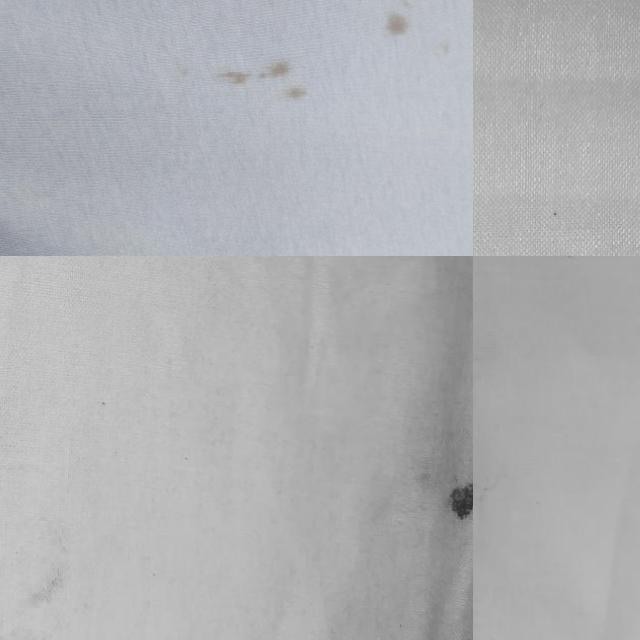Thread_other: (0, 417, 159, 640), (182, 25, 334, 152), (357, 0, 473, 121), (421, 385, 473, 526)
